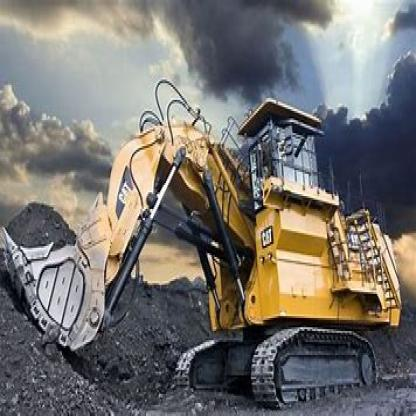excavator: (2, 59, 401, 401)
